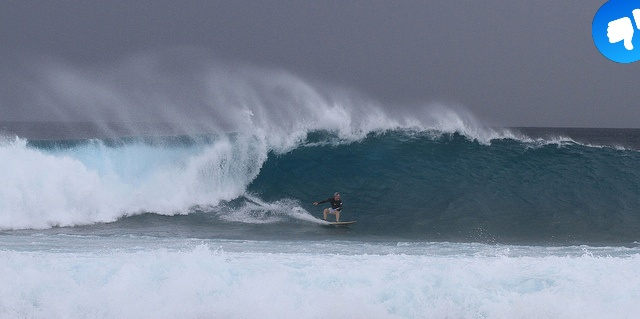like: (592, 0, 640, 63)
